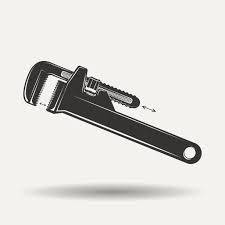Wrench: (119, 1, 202, 223), (45, 38, 98, 217), (97, 62, 133, 200)
